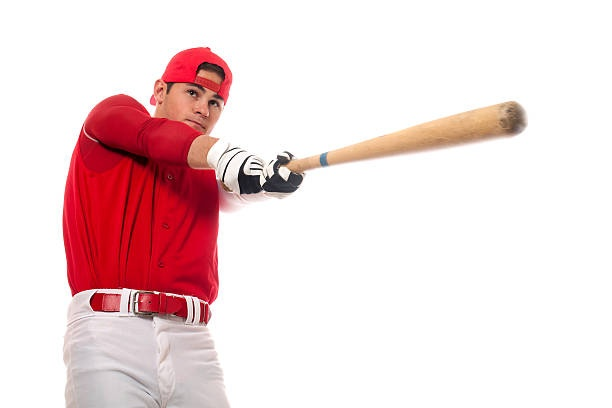bita: (282, 102, 529, 179)
